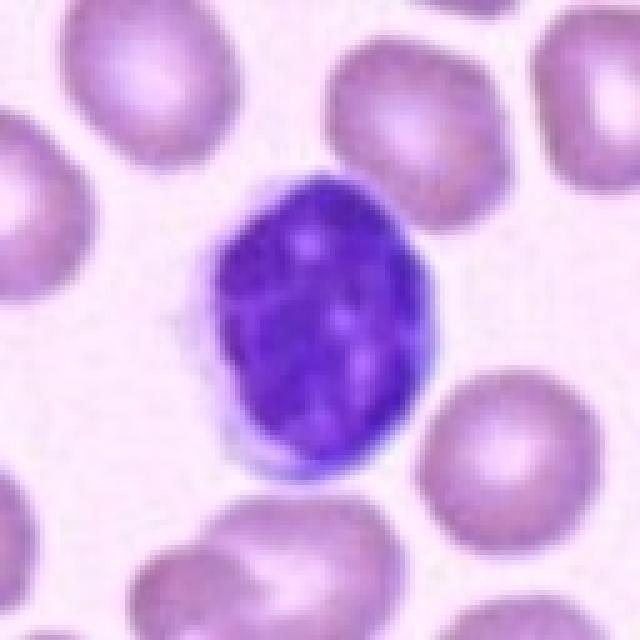lympho: (177, 161, 455, 490)
